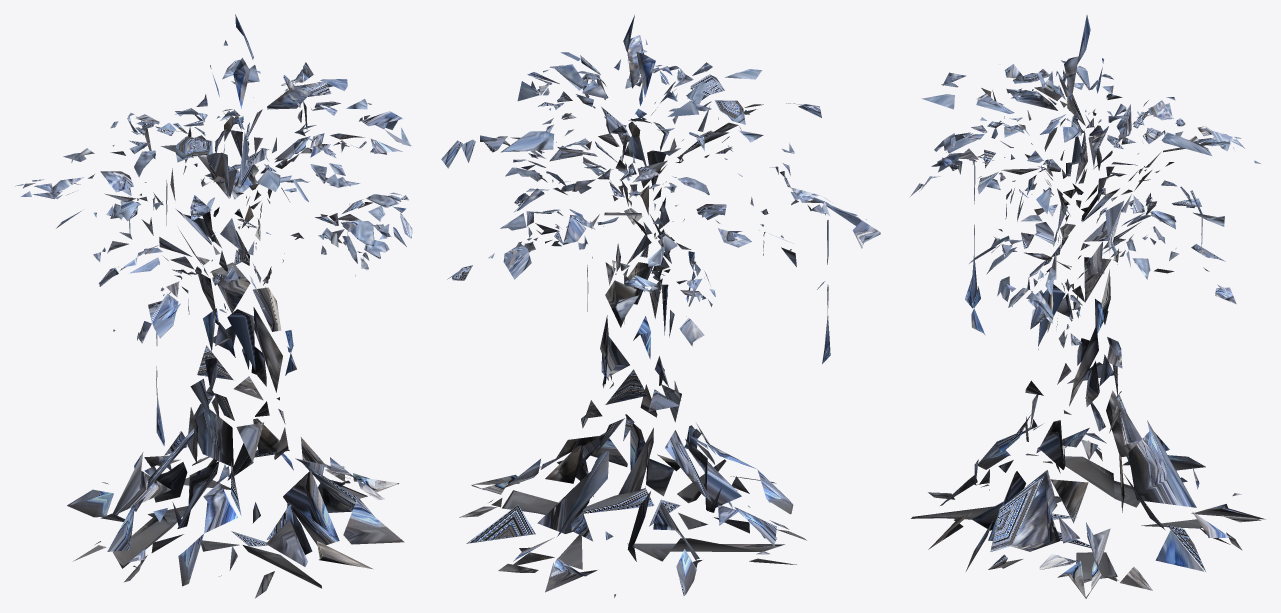
File: MAHWORLD_FOREST_TREE_PRIMARY_L2.glb
3 views of the same model, side by side, from view 1: azimuth 30°, elevation 25°; view 2: azimuth 150°, elevation 25°; view 3: azimuth 270°, elevation 25° (orthographic).
Parts seen in each view (by area): view 1: MAHWORLD_FOREST_TREE_PRIMARY_L2; view 2: MAHWORLD_FOREST_TREE_PRIMARY_L2; view 3: MAHWORLD_FOREST_TREE_PRIMARY_L2.
Boxes of the visible parts, left/top/right/bottom form: MAHWORLD_FOREST_TREE_PRIMARY_L2: left=15, top=14, right=412, bottom=598; MAHWORLD_FOREST_TREE_PRIMARY_L2: left=441, top=15, right=880, bottom=597; MAHWORLD_FOREST_TREE_PRIMARY_L2: left=909, top=15, right=1265, bottom=598.
Bounding box in the file's own units: 0.6692 × 0.9831 × 0.6256.
1 material, 1 textured.
